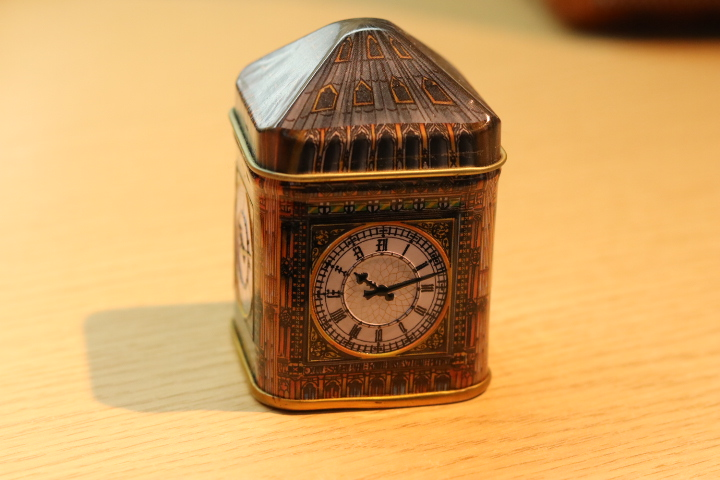Big Ben: (209, 7, 511, 428)
